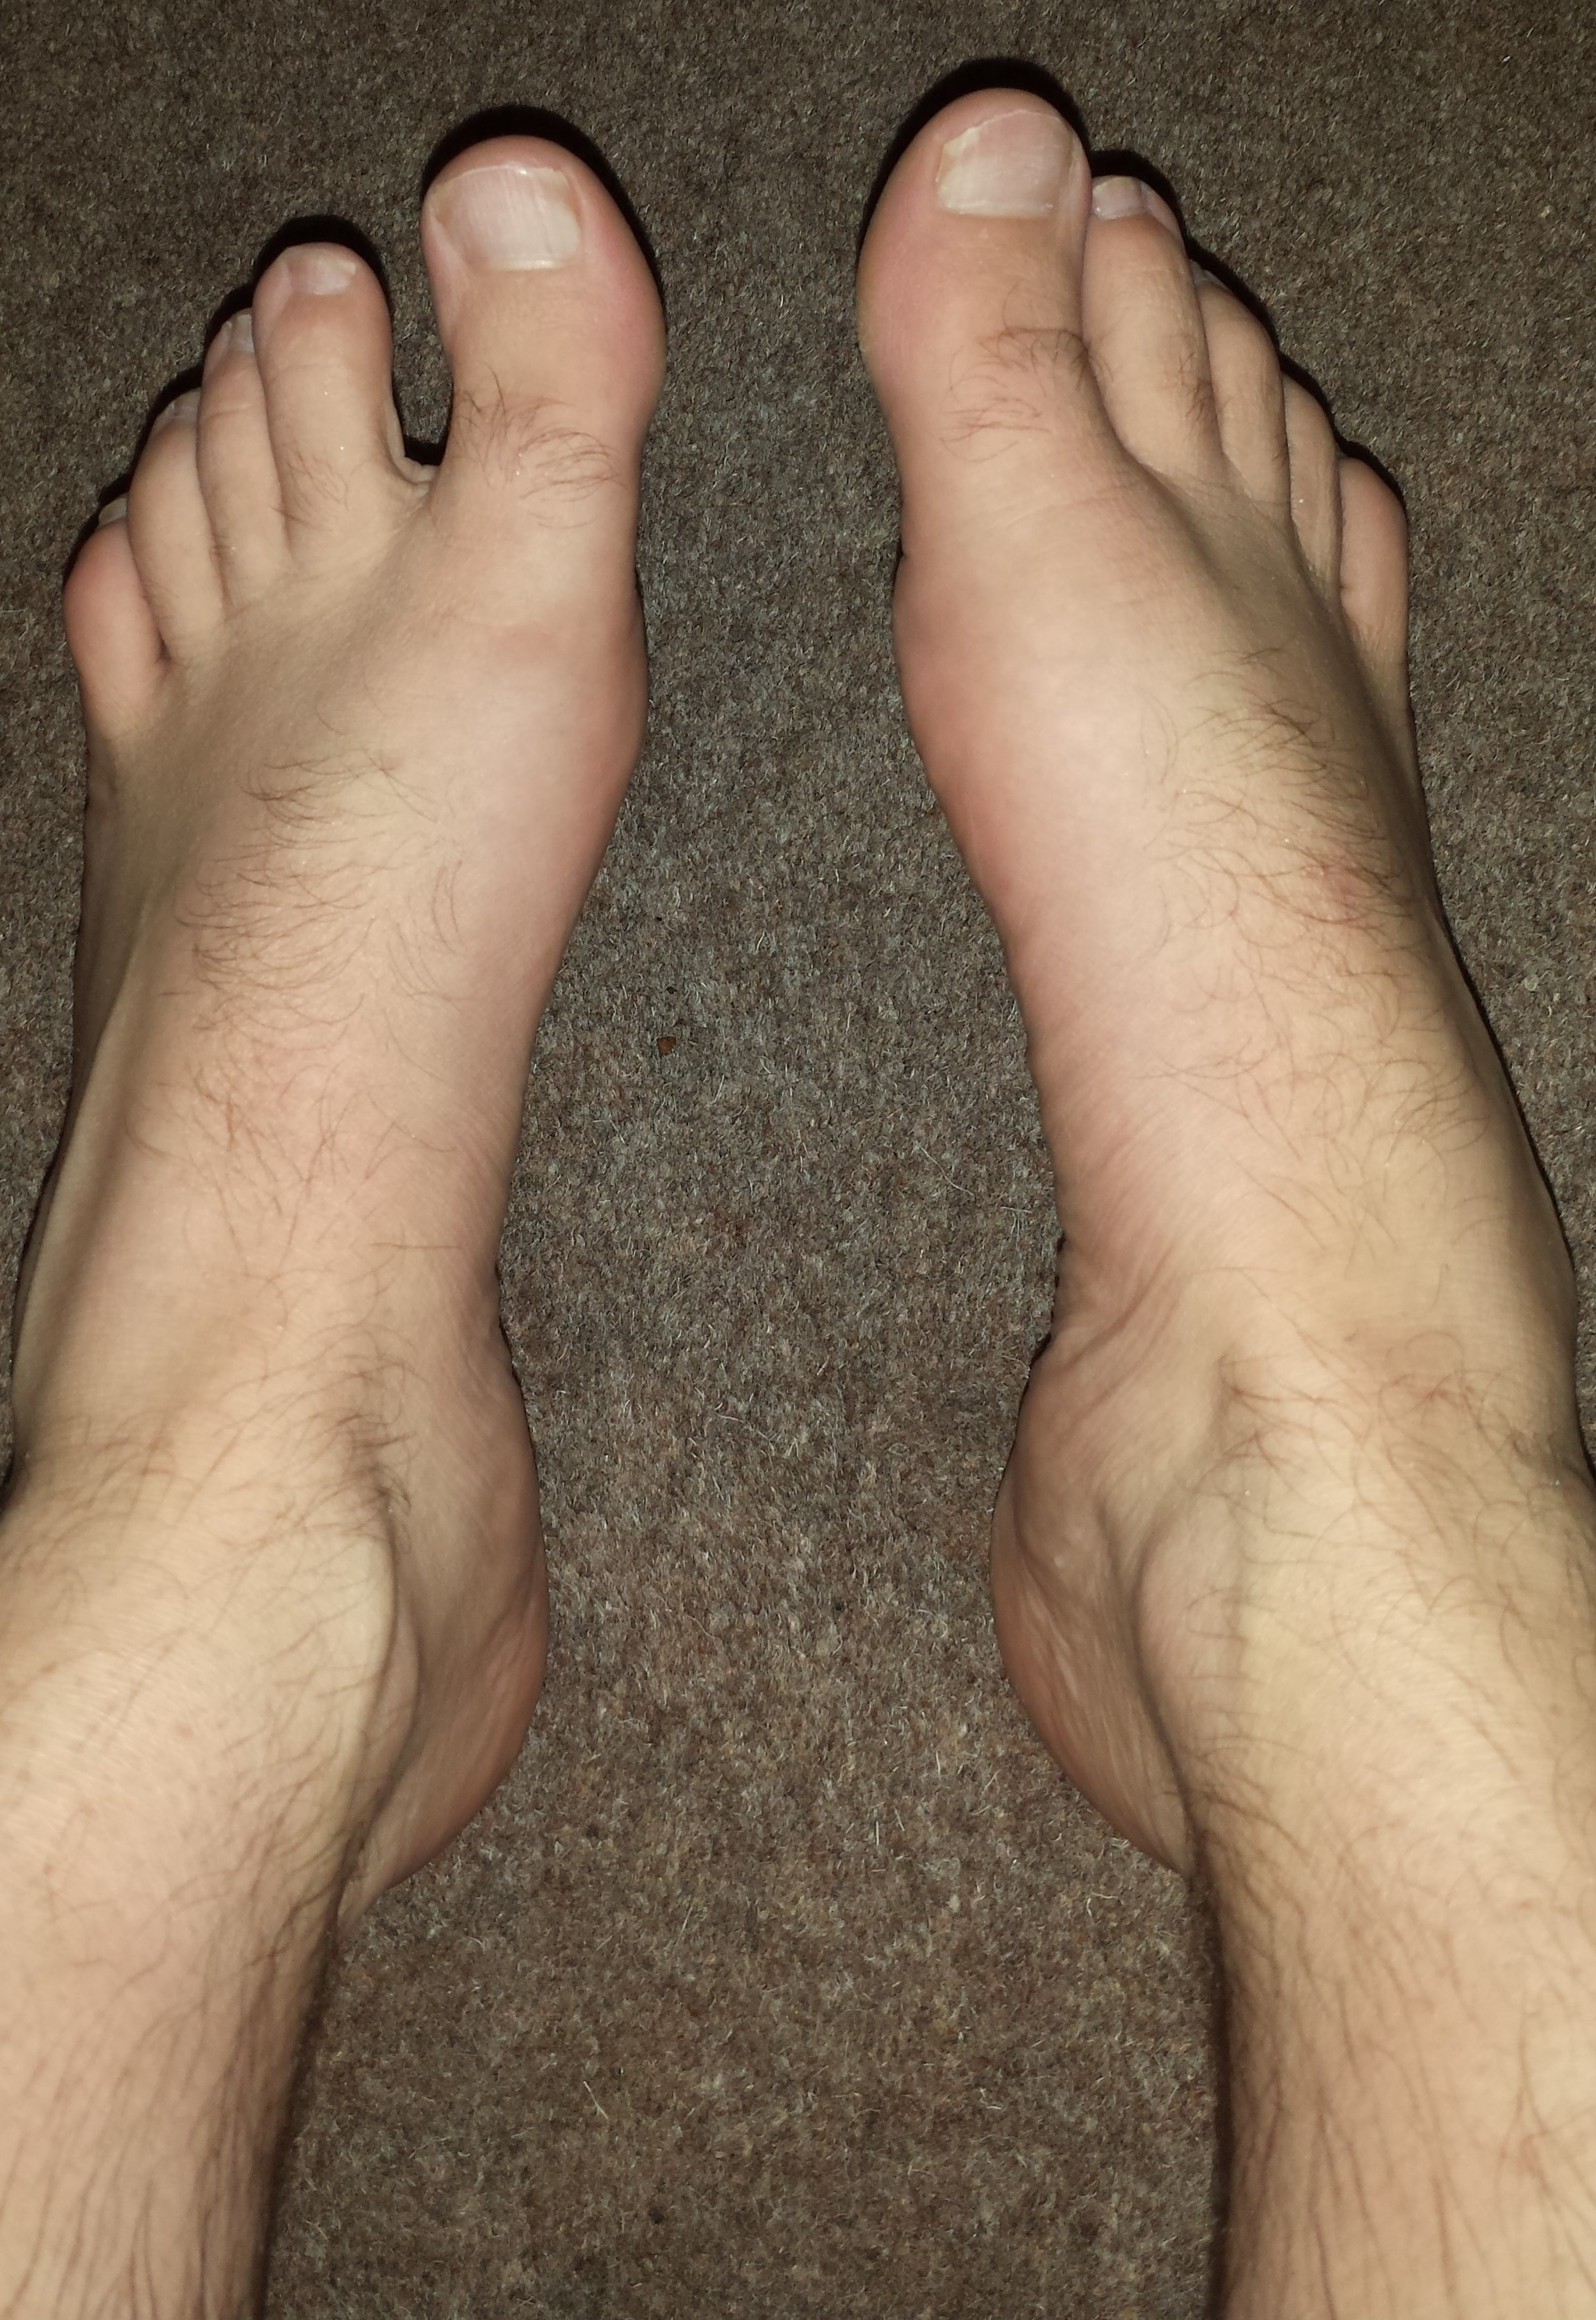feet: (809, 46, 1577, 1916), (37, 95, 691, 1904)
